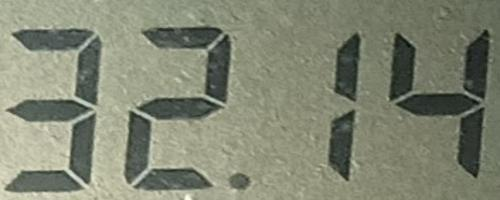.: (223, 168, 255, 196)
